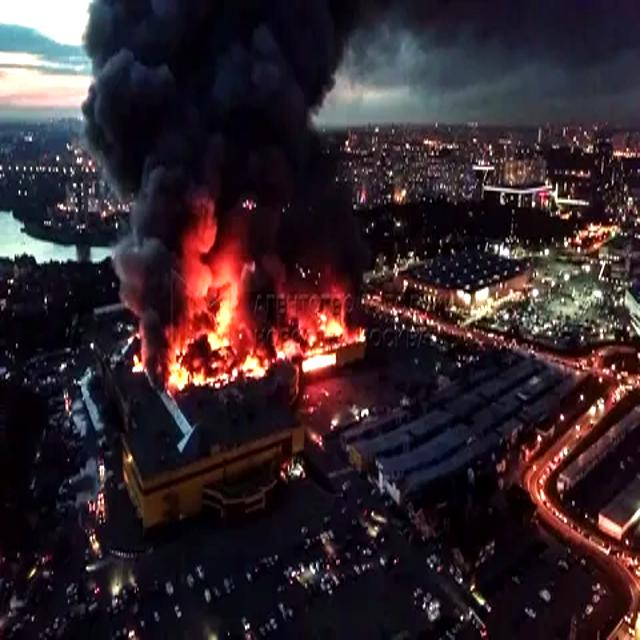no_helmet: (82, 1, 374, 354)
